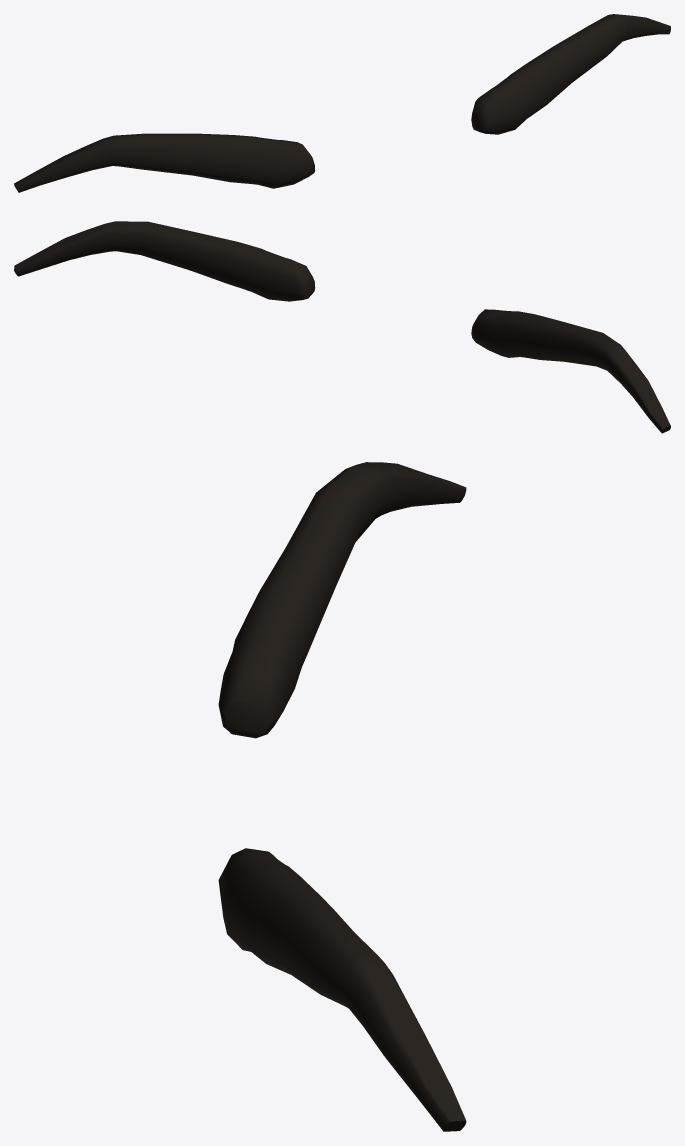
The model's file is Eyebrows_11_01.fbx.
The picture shows the model from 3 angles, top to bottom: view 1: azimuth 30°, elevation 25°; view 2: azimuth 150°, elevation 25°; view 3: azimuth 270°, elevation 25°; orthographic projection. The views are drawn at different scales.
Parts seen in each view (by area): view 1: Eyebrows_11_01; view 2: Eyebrows_11_01; view 3: Eyebrows_11_01.
Part boxes in pixels (x1,y1,x2,y2): Eyebrows_11_01: [14, 14, 670, 192]; Eyebrows_11_01: [14, 221, 670, 433]; Eyebrows_11_01: [218, 462, 466, 1131].
Size of the model in its own units: 19.56 by 1.82 by 3.2.
